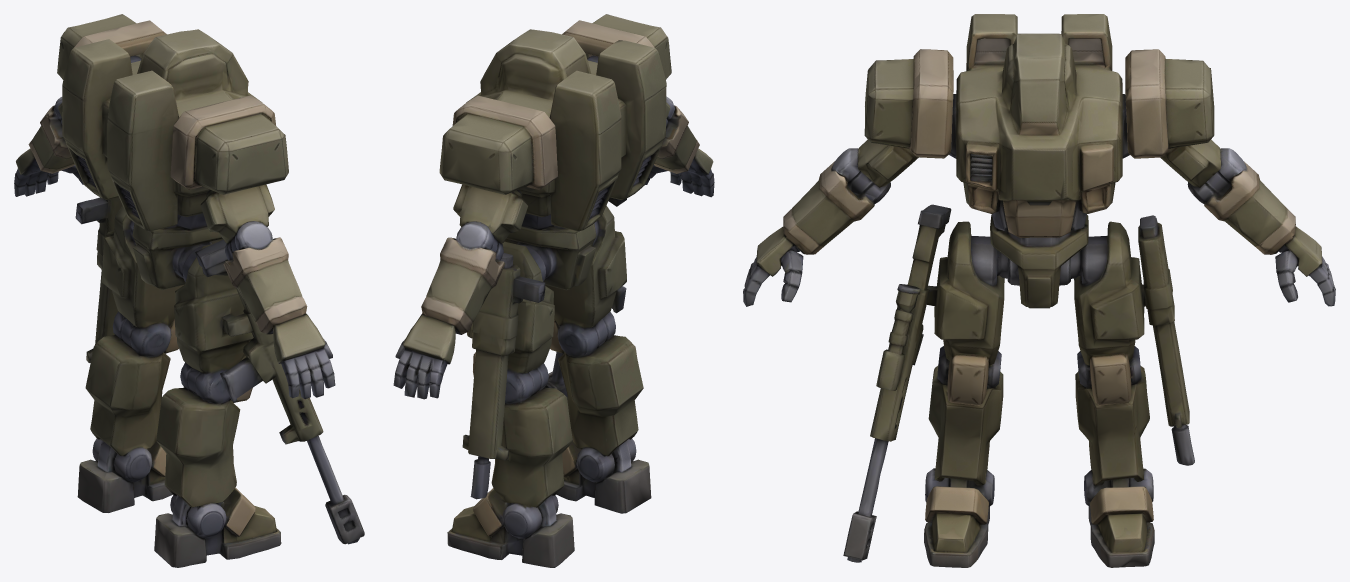
Rendered from 02a580ca-b223-42bd-881a-e3c84f8a5254-pbr_model.glb.
3 renders of one model, left to right at view 1: azimuth 30°, elevation 25°; view 2: azimuth 150°, elevation 25°; view 3: azimuth 270°, elevation 25°, orthographic. The views are drawn at different scales.
Visible parts, largest first — view 1: tripo_node_02a580ca-b223-42bd-881a-e3c84f8a5254; view 2: tripo_node_02a580ca-b223-42bd-881a-e3c84f8a5254; view 3: tripo_node_02a580ca-b223-42bd-881a-e3c84f8a5254.
Boxes of the visible parts, x1,y1,x2,y2 form: tripo_node_02a580ca-b223-42bd-881a-e3c84f8a5254: (14,14,364,567); tripo_node_02a580ca-b223-42bd-881a-e3c84f8a5254: (393,14,714,567); tripo_node_02a580ca-b223-42bd-881a-e3c84f8a5254: (743,14,1335,567).
Bounding box in the file's own units: 0.3681 × 0.9319 × 1.
Materials: 1 (1 with a texture image).
